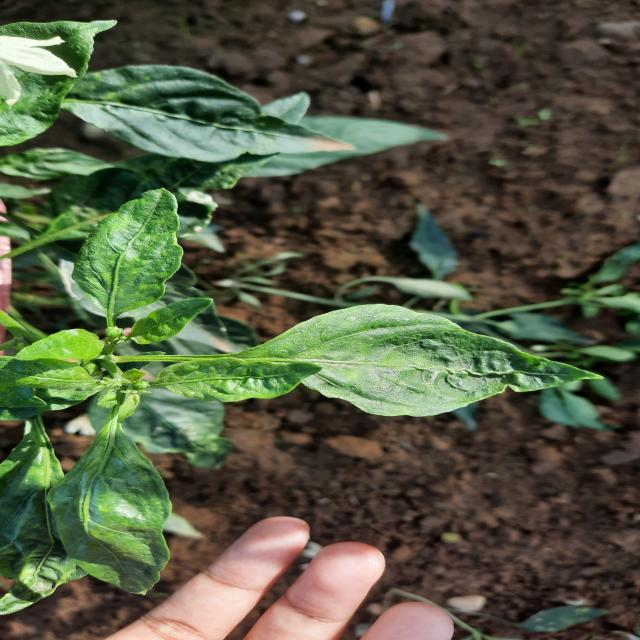thrips: (273, 304, 606, 419), (59, 186, 208, 324), (137, 346, 356, 414)
